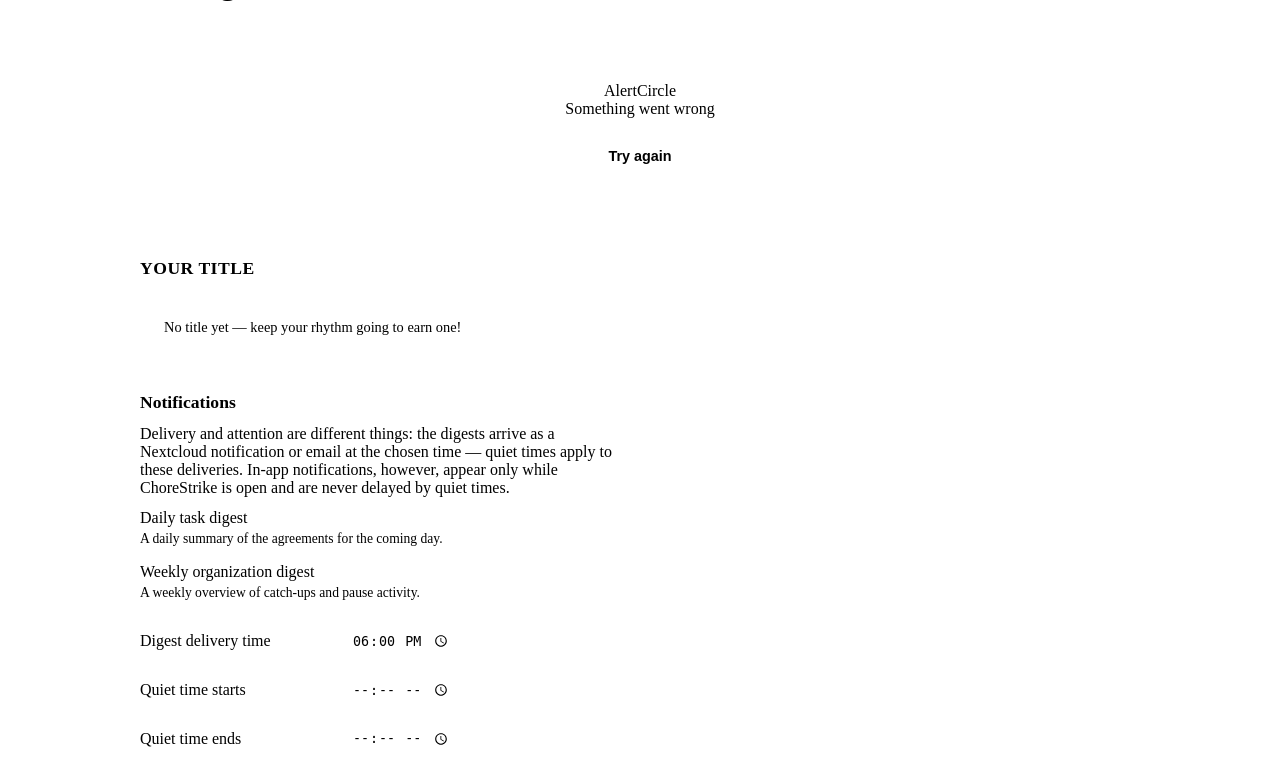
Settings.vue › offers retry after a failed house read without enabling fallback writes
Expected: the element with test id "error-state" is shown, [565,82,715,178]
Click the button with test id "error-retry".
click(640, 156)  # box [589,134,691,178]
(page scrolled)
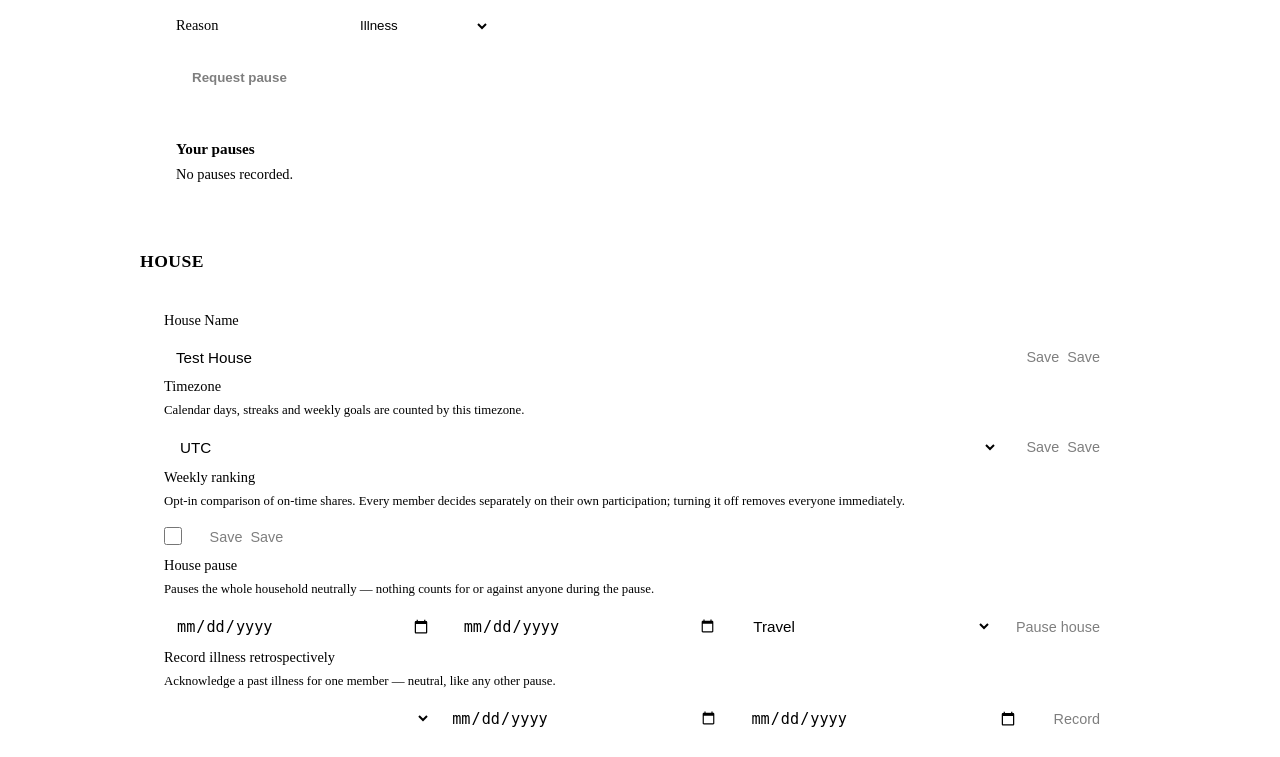
Expected: the field with id "house-name" holds "Test House", [164,337,998,378]
Expected: the field with id "house-name" is enabled, [164,337,998,378]
